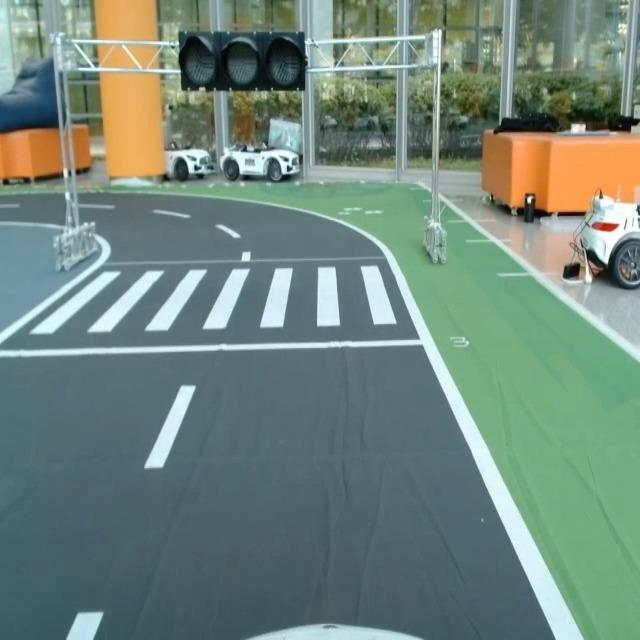traffic-light: (175, 26, 314, 94)
